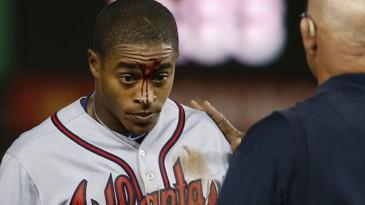Fire: (137, 59, 161, 109)
